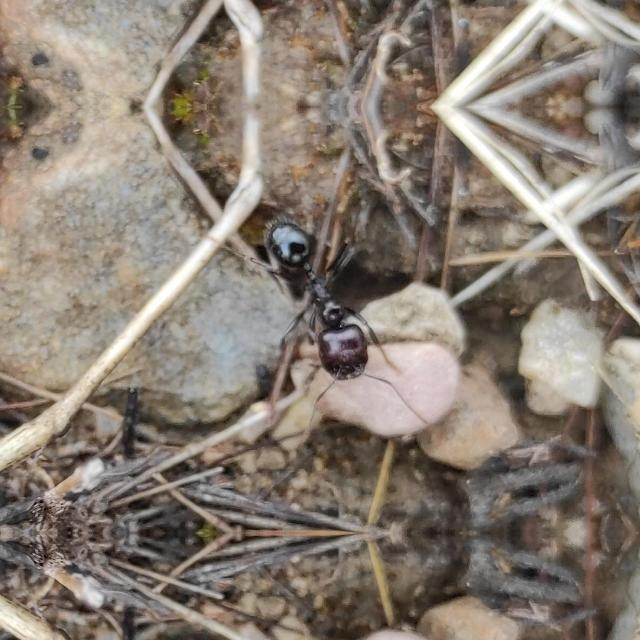Messor: (262, 198, 388, 406)
